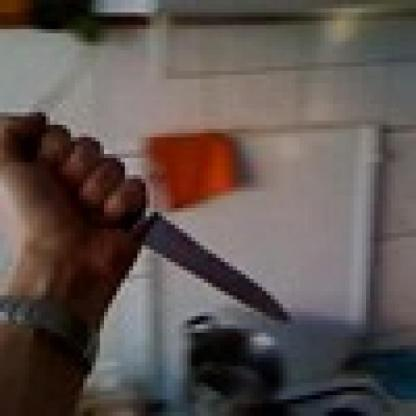Knife: (17, 121, 287, 333)
